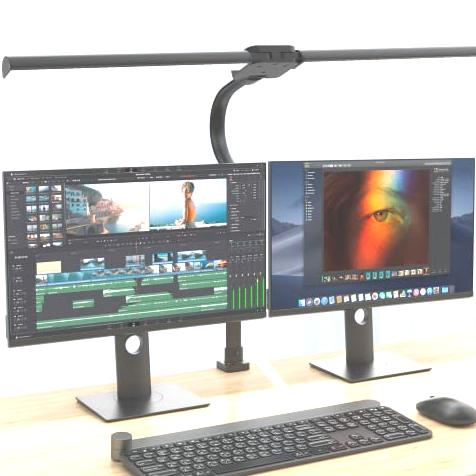keyboard: (106, 396, 435, 476)
